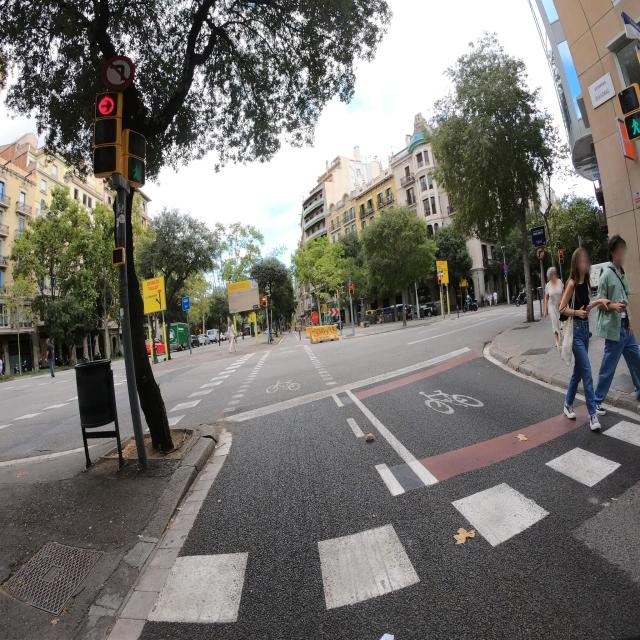bike: (515, 293, 533, 306), (463, 299, 478, 312)
car: (419, 301, 438, 317), (206, 328, 219, 344), (190, 334, 199, 347)
